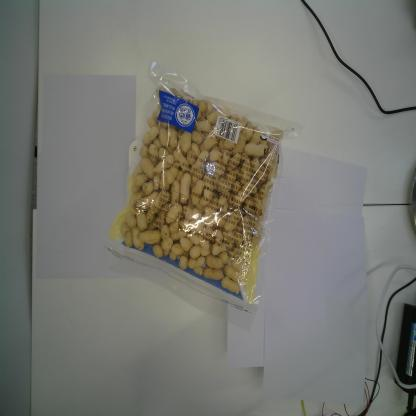Dried Food: (102, 55, 298, 336)
